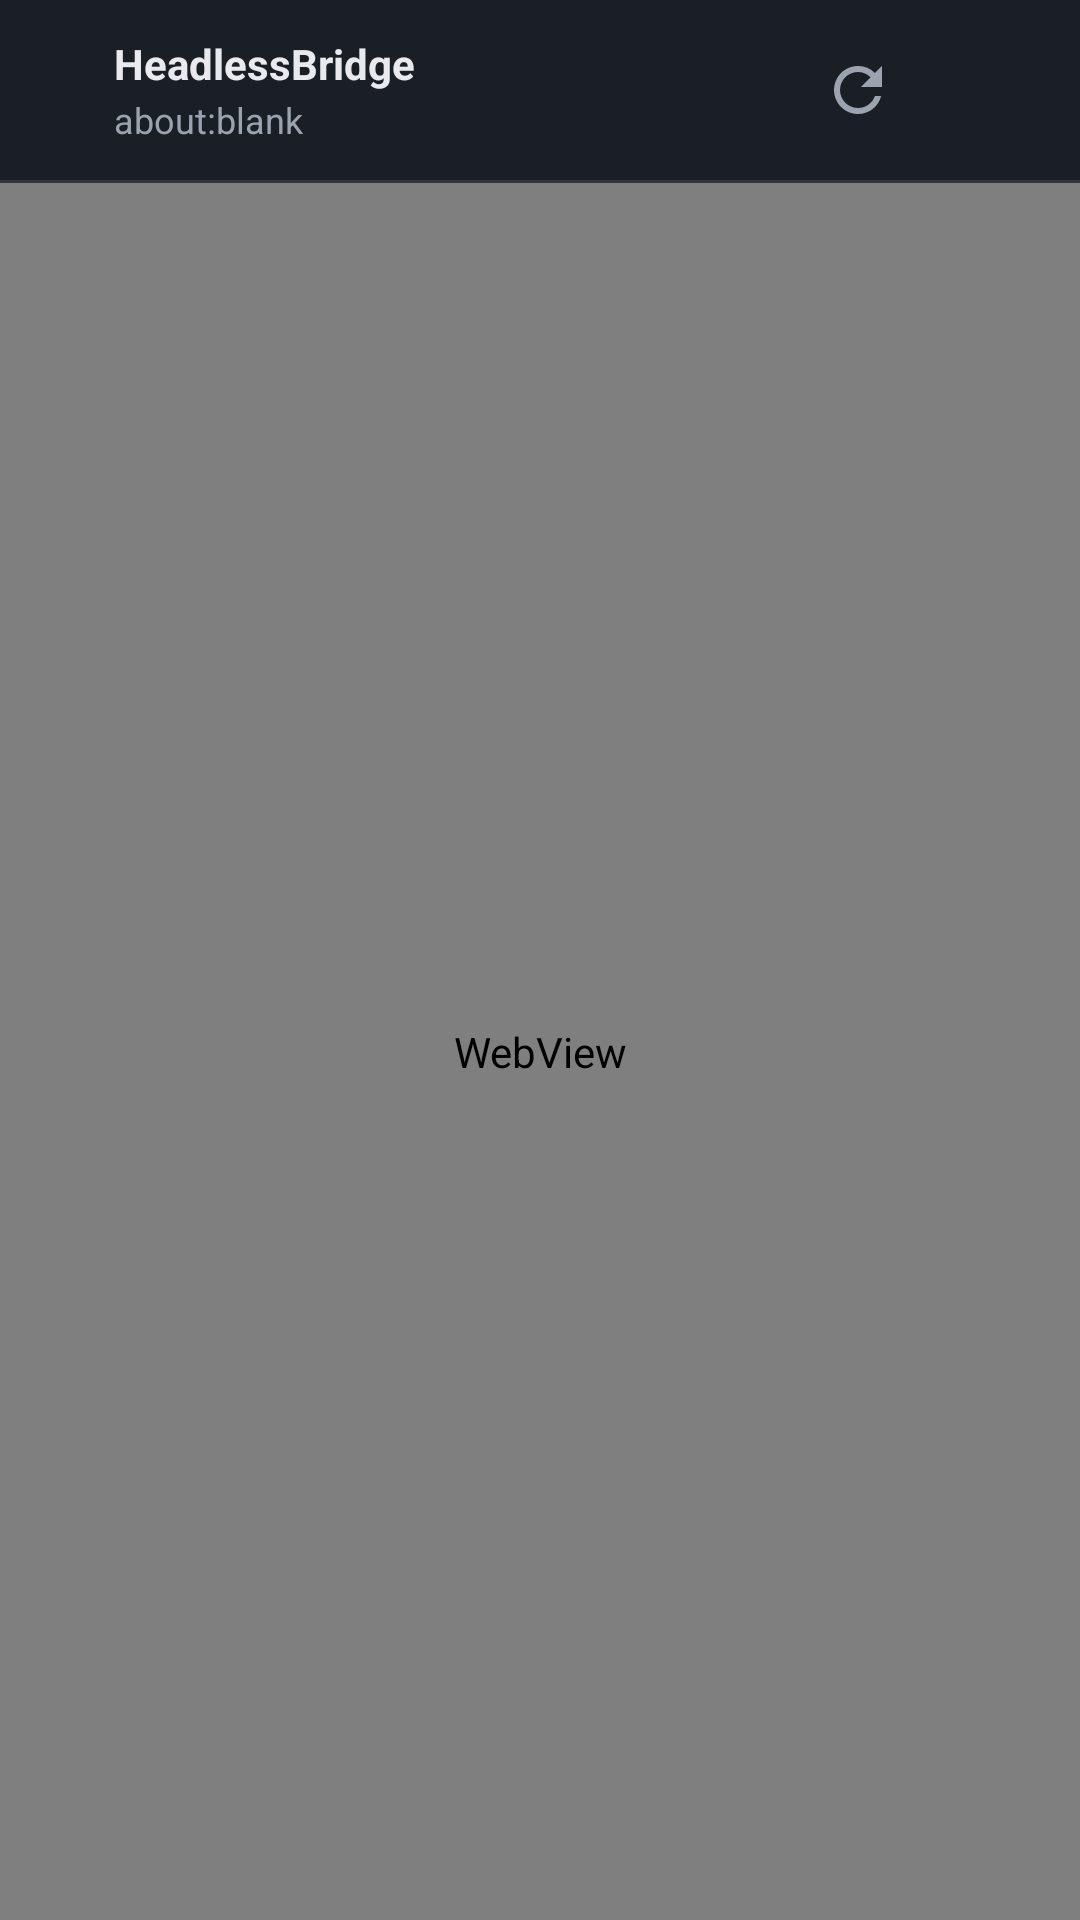

Icons on this 1080px x 1920px Android screen, each with the point to tap as (x=x, y=y):
Tải lại: (x=858, y=90)
